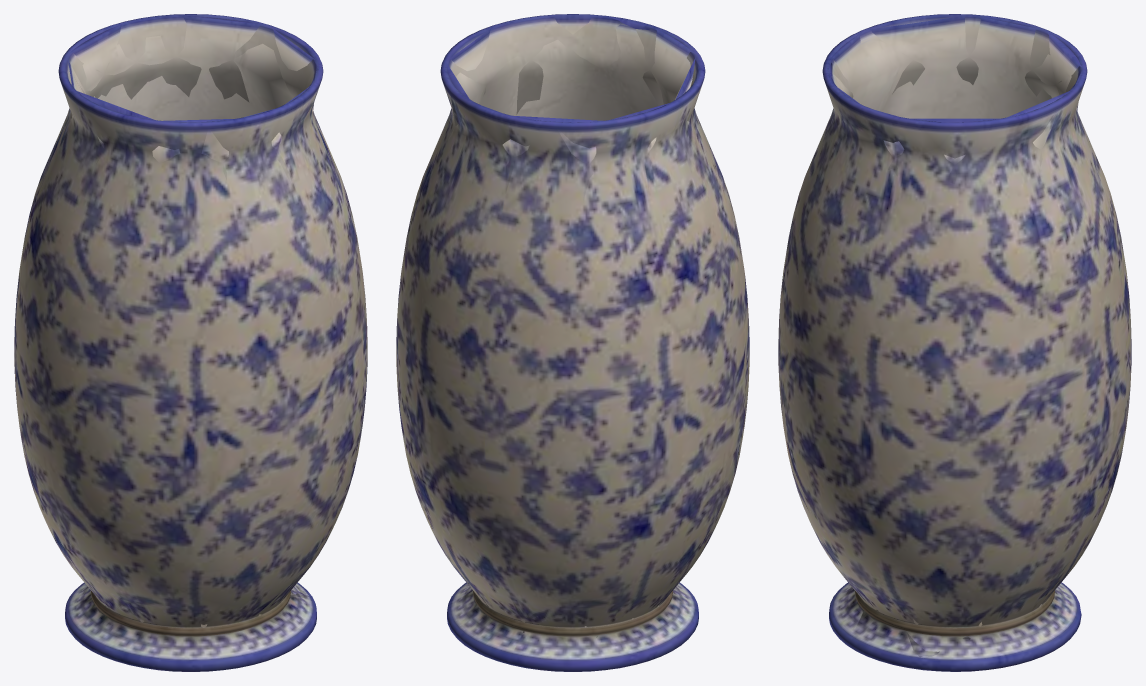
Rendered from antique_ceramic_vase_01.glb.
3 renders of one model, left to right at view 1: azimuth 30°, elevation 25°; view 2: azimuth 150°, elevation 25°; view 3: azimuth 270°, elevation 25°, orthographic.
Parts seen in each view (by area): view 1: antique_ceramic_vase_01, antique_ceramic_vase_01_lo; view 2: antique_ceramic_vase_01, antique_ceramic_vase_01_lo; view 3: antique_ceramic_vase_01, antique_ceramic_vase_01_lo.
Part boxes in pixels (box(x1,y1,x2,y2)): antique_ceramic_vase_01: box(14, 14, 367, 671); antique_ceramic_vase_01_lo: box(58, 15, 317, 627); antique_ceramic_vase_01: box(396, 14, 749, 671); antique_ceramic_vase_01_lo: box(446, 16, 695, 637); antique_ceramic_vase_01: box(778, 14, 1131, 671); antique_ceramic_vase_01_lo: box(815, 15, 1088, 657).
Bounding box in the file's own units: 0.255 × 0.4396 × 0.255.
1 material, 1 textured.
